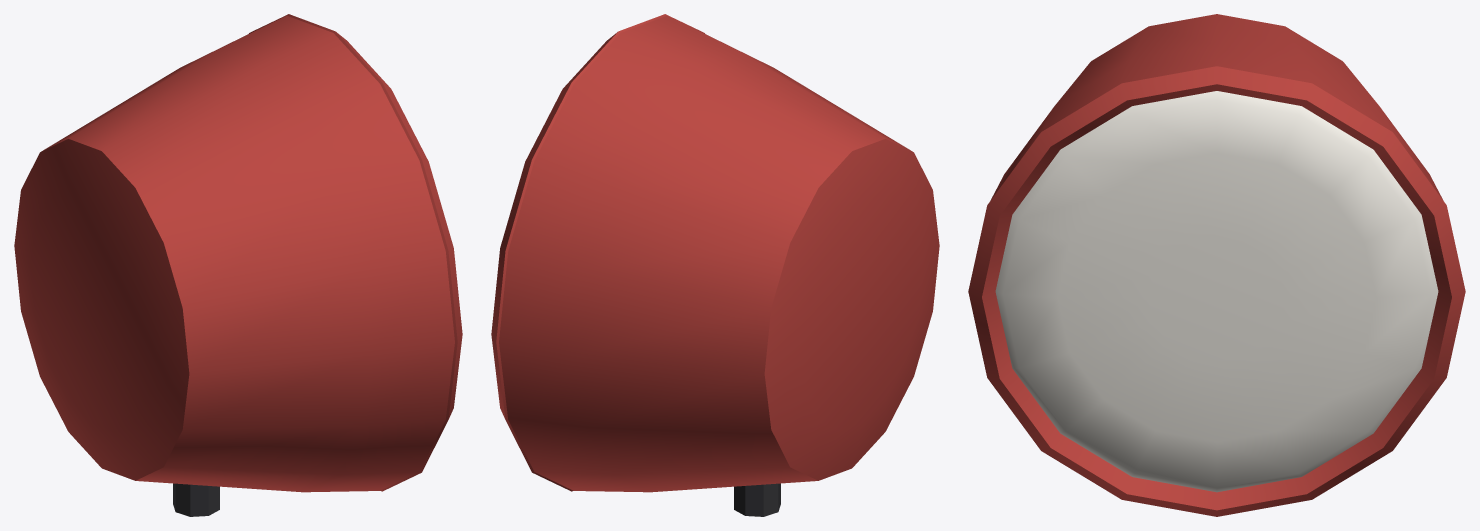
File: bucket_lod1.glb
The picture shows the model from 3 angles, left to right: view 1: azimuth 30°, elevation 25°; view 2: azimuth 150°, elevation 25°; view 3: azimuth 270°, elevation 25°; orthographic projection.
Visible parts, largest first — view 1: bucket_lod1; view 2: bucket_lod1; view 3: bucket_lod1.
Boxes of the visible parts, bbox=[...] form: bucket_lod1: bbox=[14, 14, 462, 516]; bucket_lod1: bbox=[491, 14, 939, 516]; bucket_lod1: bbox=[968, 14, 1465, 516].
Size of the model in its own units: 1.23 by 2.01 by 2.01.
